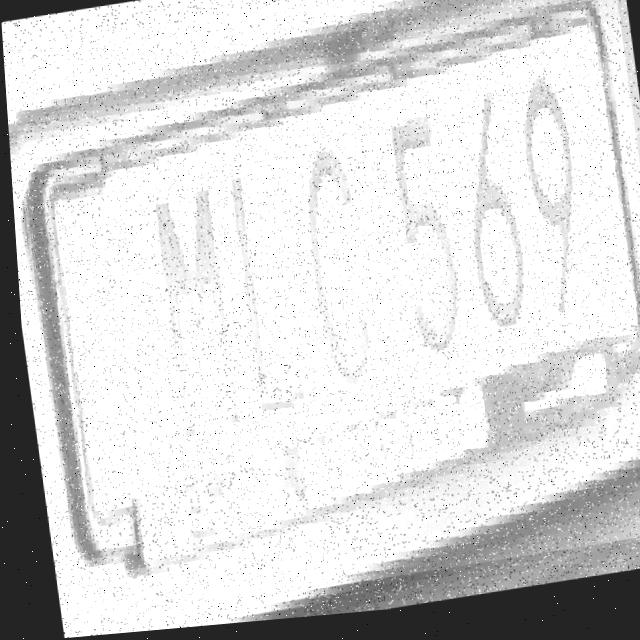LicensePlate: (0, 0, 640, 630)
